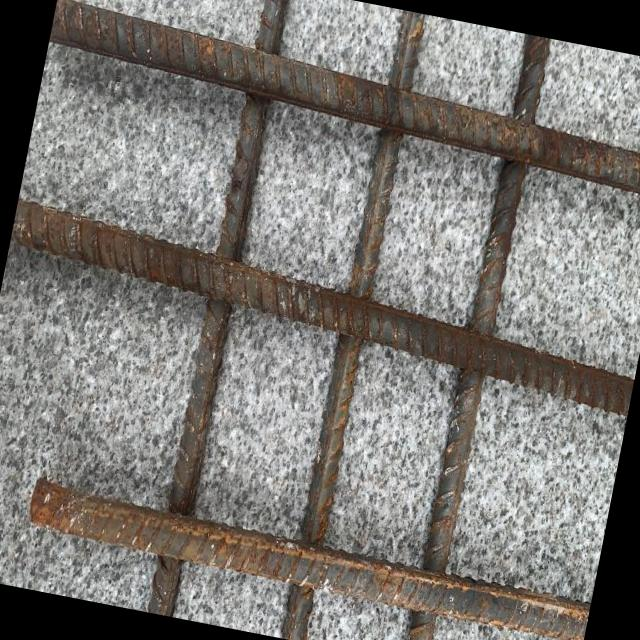ribbed bar: (0, 196, 640, 420), (40, 0, 640, 207), (277, 10, 428, 640), (22, 474, 595, 640), (144, 0, 295, 617), (399, 34, 552, 640)
